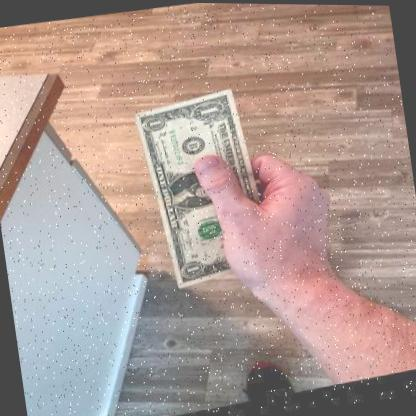one-front: (132, 87, 272, 296)
